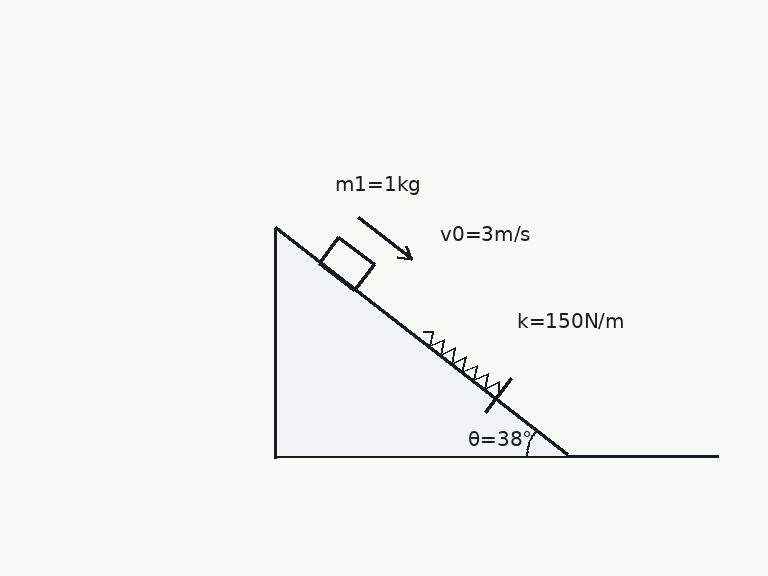block: (317, 235, 376, 292)
ramp: (273, 226, 569, 458)
spring: (422, 329, 502, 394)
